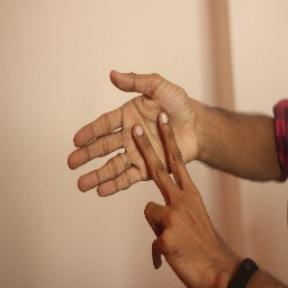N: (60, 67, 218, 253)
